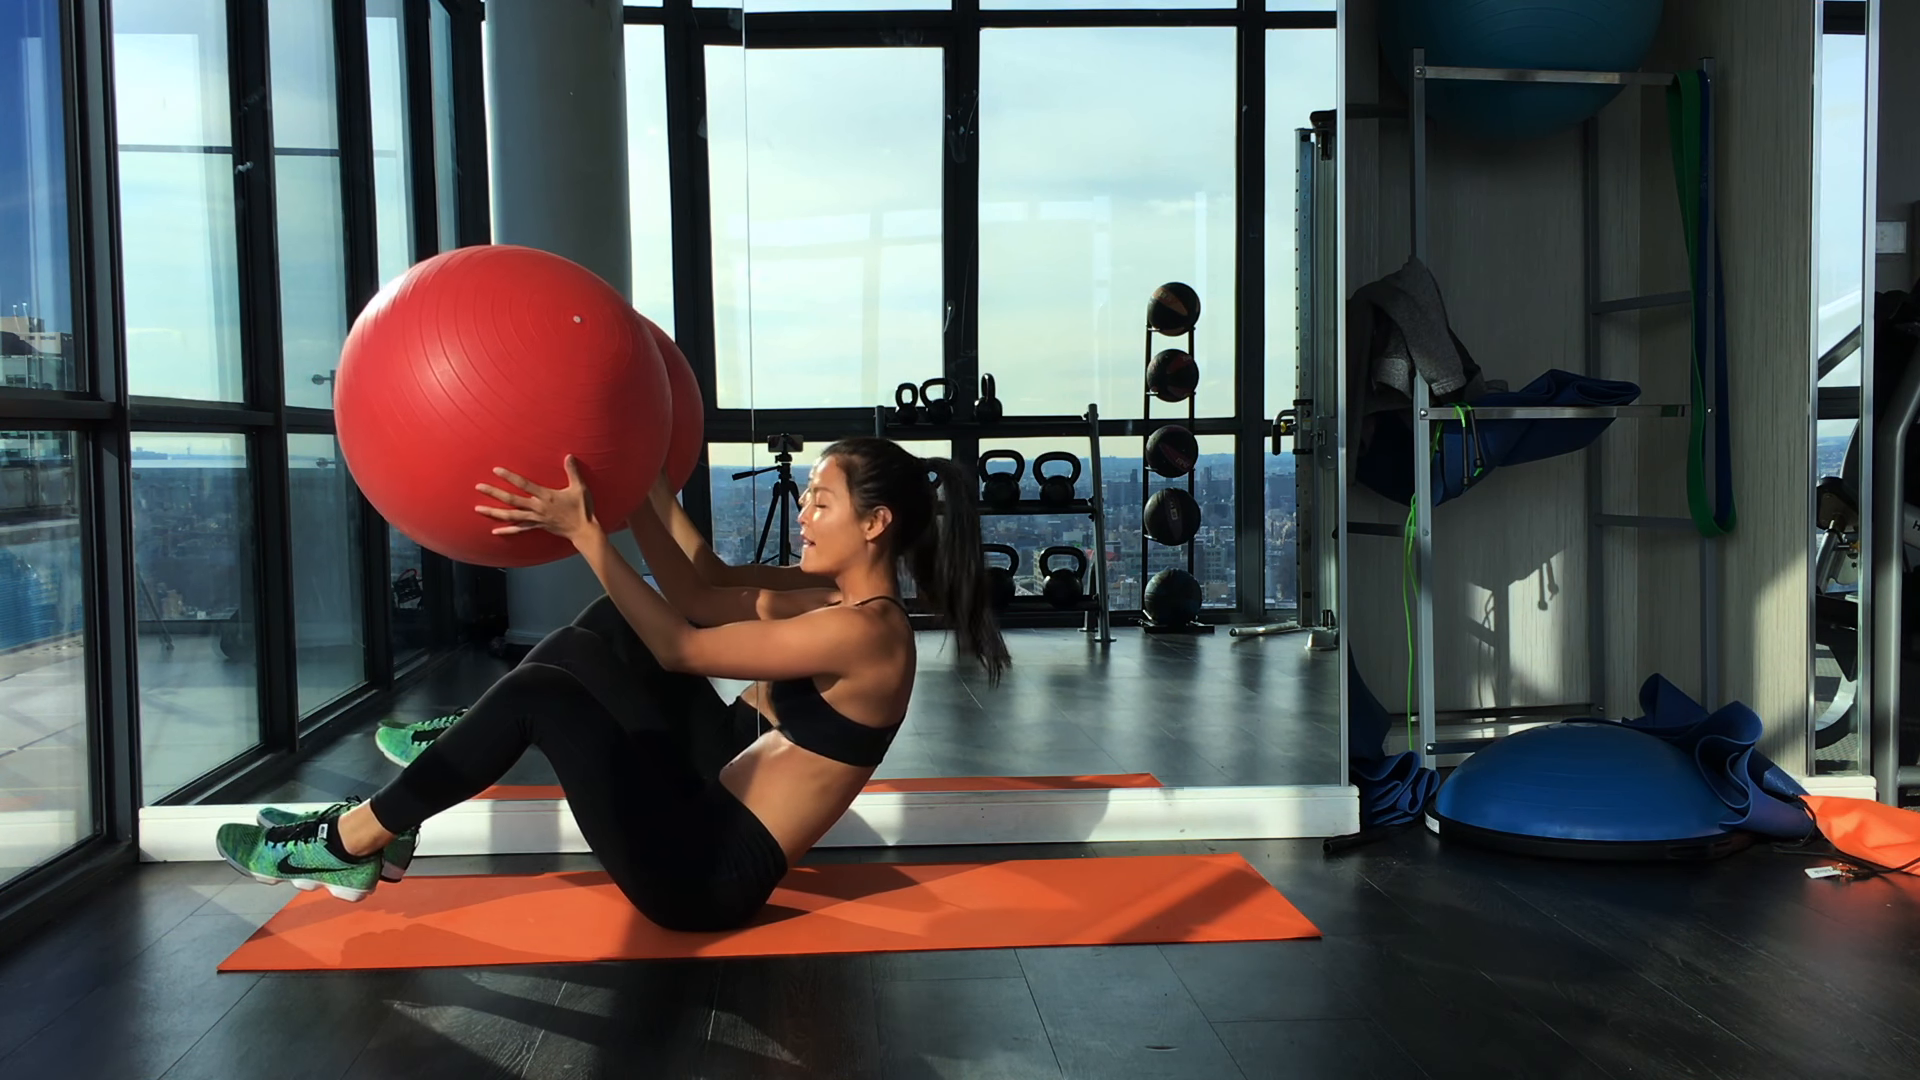yogaball: (327, 235, 678, 570)
